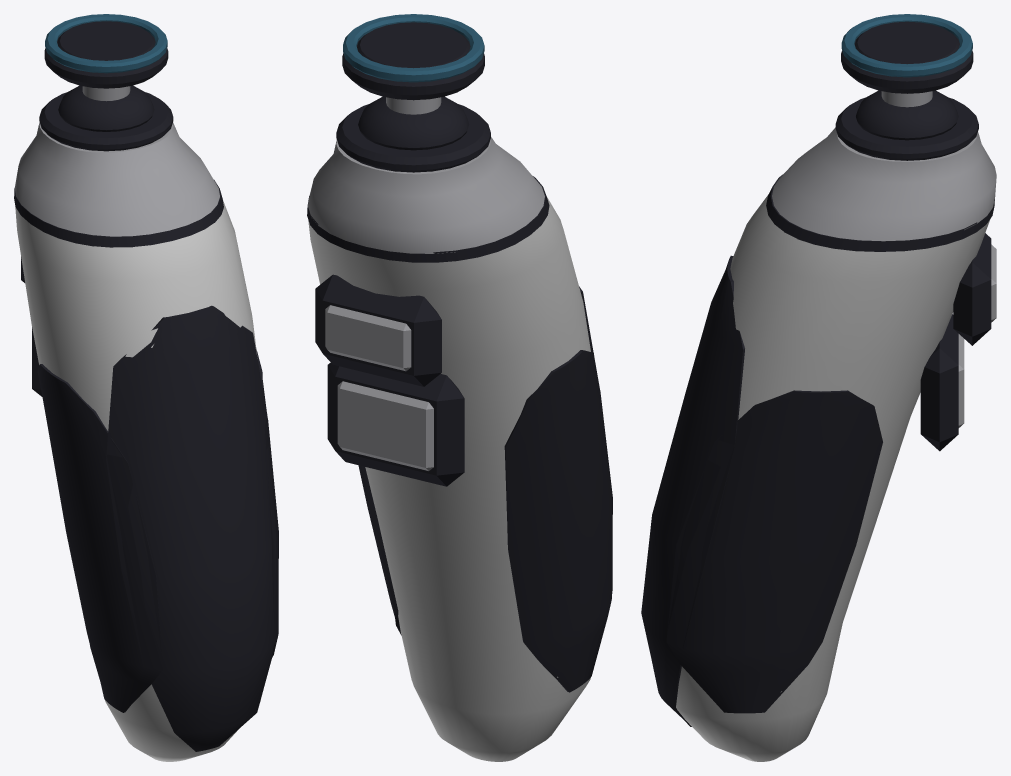
Rendered from con-stick-grip.glb.
3 views of the same model, side by side, from view 1: azimuth 30°, elevation 25°; view 2: azimuth 150°, elevation 25°; view 3: azimuth 270°, elevation 25° (orthographic). The views are drawn at different scales.
Parts seen in each view (by area): view 1: part_stick_seated_palm_cushion, part_stick_hand_contour, part_stick_seated_side_pad, part_stick_top_cap, part_stick_socket, part_stick_flexible_boot, part_stick_thumb_contact, part_stick_thumbcap_rim, part_stick_top_gasket, part_stick_thumbcap_base, part_stick_seated_side_pad.001, part_stick_shaft; view 2: part_stick_hand_contour, part_stick_seated_side_pad, part_stick_top_cap, part_button_z_key, part_button_z_recess, part_button_c_recess, part_stick_socket, part_stick_flexible_boot, part_button_c_key, part_stick_thumb_contact, part_stick_thumbcap_rim, part_stick_top_gasket (+3 smaller); view 3: part_stick_seated_side_pad.001, part_stick_hand_contour, part_stick_seated_palm_cushion, part_stick_top_cap, part_stick_socket, part_button_z_recess, part_stick_flexible_boot, part_stick_thumb_contact, part_stick_thumbcap_rim, part_button_c_recess, part_stick_top_gasket, part_stick_thumbcap_base (+2 smaller).
Part boxes in pixels (left/top/right/bottom): part_stick_seated_palm_cushion: left=106, top=305, right=278, bottom=751; part_stick_hand_contour: left=15, top=200, right=257, bottom=761; part_stick_seated_side_pad: left=37, top=364, right=162, bottom=712; part_stick_top_cap: left=15, top=122, right=219, bottom=236; part_stick_socket: left=39, top=92, right=173, bottom=151; part_stick_flexible_boot: left=58, top=85, right=154, bottom=131; part_stick_thumb_contact: left=57, top=21, right=155, bottom=60; part_stick_thumbcap_rim: left=45, top=14, right=167, bottom=73; part_stick_top_gasket: left=14, top=180, right=223, bottom=247; part_stick_thumbcap_base: left=44, top=32, right=168, bottom=88; part_stick_seated_side_pad.001: left=256, top=349, right=278, bottom=657; part_stick_shaft: left=82, top=86, right=130, bottom=101; part_stick_hand_contour: left=308, top=196, right=590, bottom=761; part_stick_seated_side_pad: left=504, top=350, right=612, bottom=692; part_stick_top_cap: left=308, top=137, right=544, bottom=253; part_button_z_key: left=337, top=381, right=433, bottom=470; part_button_z_recess: left=327, top=362, right=464, bottom=486; part_button_c_recess: left=315, top=274, right=441, bottom=386; part_stick_socket: left=336, top=104, right=490, bottom=172; part_stick_flexible_boot: left=358, top=96, right=469, bottom=150; part_button_c_key: left=325, top=305, right=411, bottom=371; part_stick_thumb_contact: left=357, top=22, right=470, bottom=68; part_stick_thumbcap_rim: left=343, top=14, right=484, bottom=82; part_stick_top_gasket: left=307, top=176, right=549, bottom=262; part_stick_seated_side_pad.001: left=666, top=390, right=882, bottom=713; part_stick_hand_contour: left=676, top=194, right=989, bottom=761; part_stick_seated_palm_cushion: left=641, top=255, right=744, bottom=726; part_stick_top_cap: left=772, top=127, right=996, bottom=241; part_stick_socket: left=835, top=97, right=978, bottom=160; part_button_z_recess: left=920, top=314, right=958, bottom=451; part_stick_flexible_boot: left=856, top=90, right=958, bottom=140; part_stick_thumb_contact: left=855, top=21, right=959, bottom=64; part_stick_thumbcap_rim: left=841, top=14, right=972, bottom=77; part_button_c_recess: left=953, top=233, right=991, bottom=345; part_stick_top_gasket: left=766, top=174, right=994, bottom=251; part_stick_thumbcap_base: left=841, top=33, right=973, bottom=93.
Size of what is drawn, in the model's own units: 0.0371 by 0.1228 by 0.0557.
